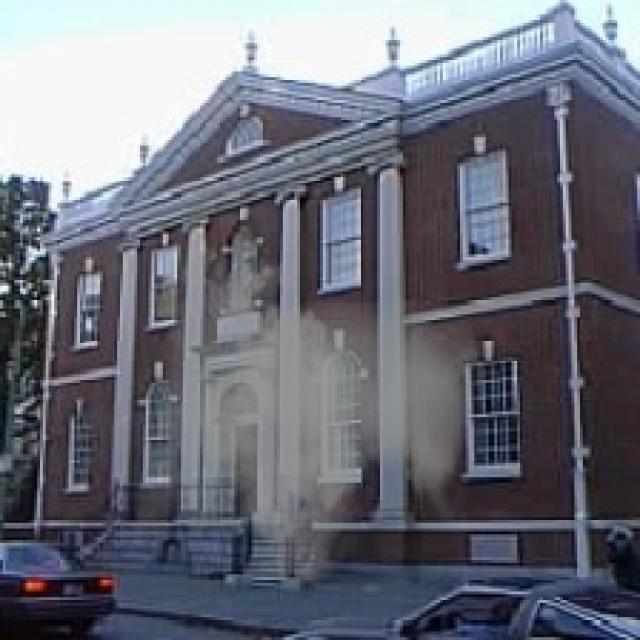smoke: (134, 237, 480, 600)
